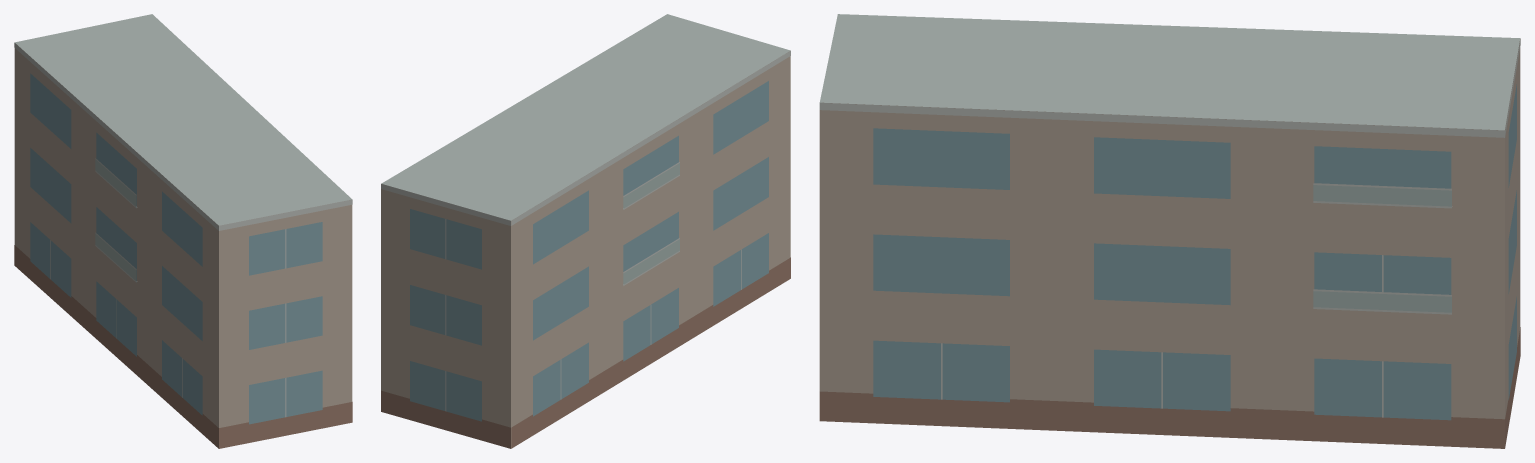
The model's file is survey-upis-32566195.glb.
3 views of the same model, side by side, from view 1: azimuth 30°, elevation 25°; view 2: azimuth 150°, elevation 25°; view 3: azimuth 270°, elevation 25° (orthographic). The views are drawn at different scales.
Parts seen in each view (by area): view 1: survey-upis-32566195.tmp; view 2: survey-upis-32566195.tmp; view 3: survey-upis-32566195.tmp.
Boxes of the visible parts, <box> form: survey-upis-32566195.tmp: <box>14,14,352,448</box>; survey-upis-32566195.tmp: <box>381,14,790,448</box>; survey-upis-32566195.tmp: <box>819,14,1520,448</box>.
Size of the model in its own units: 8.16 by 10.4 by 20.75.
